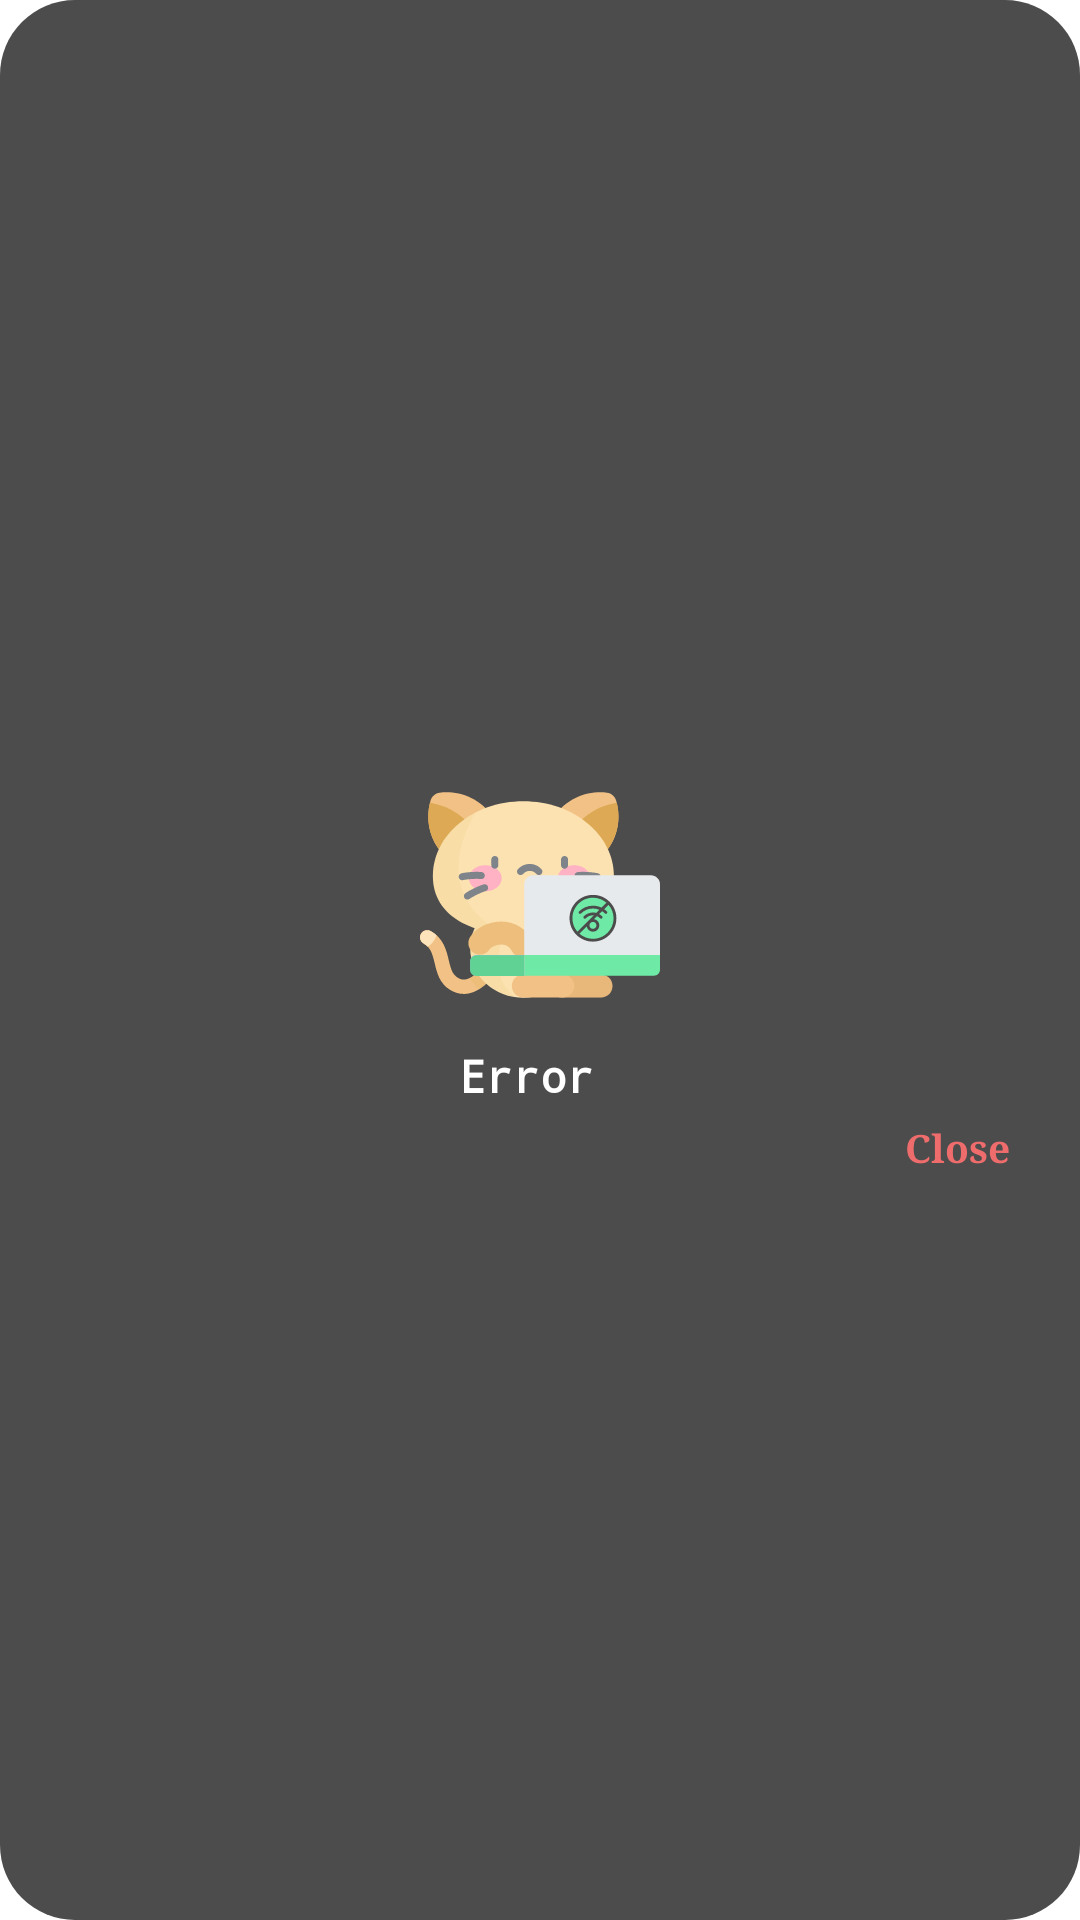

Icons on this 1080px x 1920px Android screen, each with the point to tap as (x,y):
no internet: (540,895)
